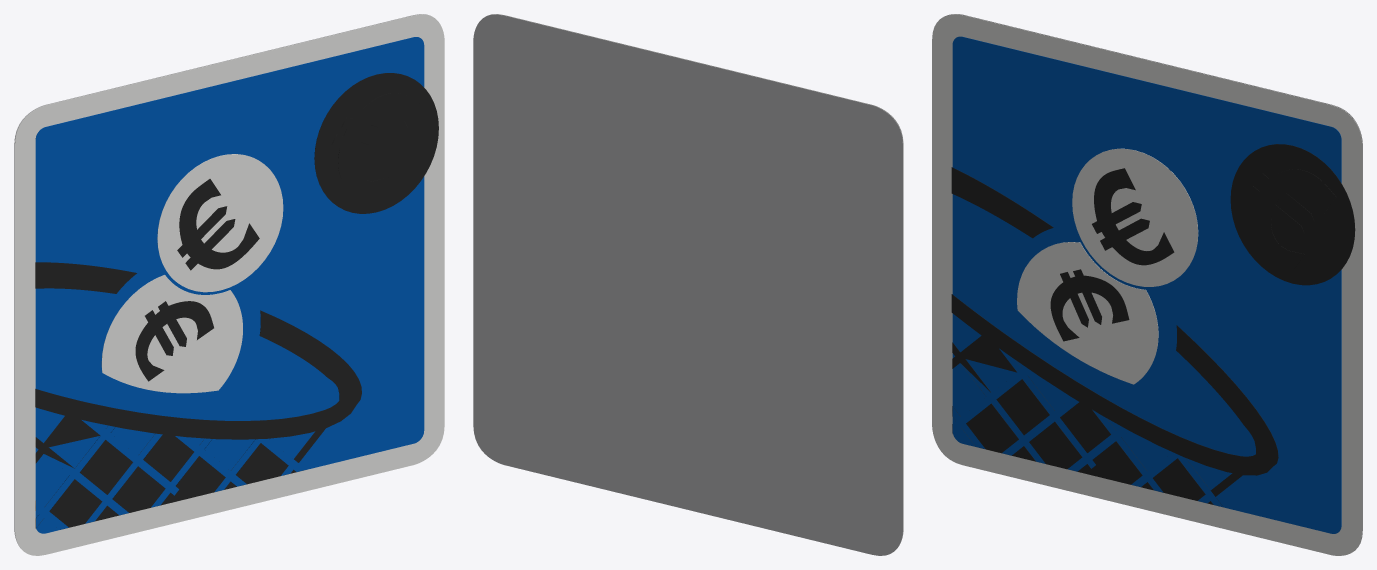
3 renders of one model, left to right at view 1: azimuth 30°, elevation 25°; view 2: azimuth 150°, elevation 25°; view 3: azimuth 330°, elevation 25°, orthographic.
Parts seen in each view (by area): view 1: C64c1_p01, C64c1_p00, C64c1_p02, C64c1_p07, C64c1_p09, C64c1_p05, C64c1_p04, C64c1_p06, C64c1_p10, C64c1_p08, C64c1_p03, C64c1_dos; view 2: C64c1_dos, C64c1_p00; view 3: C64c1_p01, C64c1_p00, C64c1_p02, C64c1_p07, C64c1_p09, C64c1_p05, C64c1_p04, C64c1_p06, C64c1_p10, C64c1_p08, C64c1_p03, C64c1_dos.
Part boxes in pixels (<box>): C64c1_p01: <box>35,37,424,533</box>; C64c1_p00: <box>15,14,444,555</box>; C64c1_p02: <box>35,416,325,529</box>; C64c1_p07: <box>101,275,242,393</box>; C64c1_p09: <box>157,154,283,292</box>; C64c1_p05: <box>314,73,438,213</box>; C64c1_p04: <box>35,310,361,439</box>; C64c1_p06: <box>332,93,420,198</box>; C64c1_p10: <box>177,179,259,270</box>; C64c1_p08: <box>135,301,213,381</box>; C64c1_p03: <box>35,262,136,293</box>; C64c1_dos: <box>14,14,430,548</box>; C64c1_dos: <box>473,14,902,555</box>; C64c1_p00: <box>487,14,903,548</box>; C64c1_p01: <box>952,36,1341,533</box>; C64c1_p00: <box>932,14,1362,555</box>; C64c1_p02: <box>952,335,1242,506</box>; C64c1_p07: <box>1017,242,1158,384</box>; C64c1_p09: <box>1072,148,1198,286</box>; C64c1_p05: <box>1230,144,1355,285</box>; C64c1_p04: <box>951,294,1278,475</box>; C64c1_p06: <box>1247,169,1335,269</box>; C64c1_p10: <box>1092,168,1174,265</box>; C64c1_p08: <box>1050,269,1129,341</box>; C64c1_p03: <box>951,167,1053,238</box>; C64c1_dos: <box>945,14,1362,550</box>.
Bounding box in the file's own units: 0.7 × 0.6999 × 0.0059.
